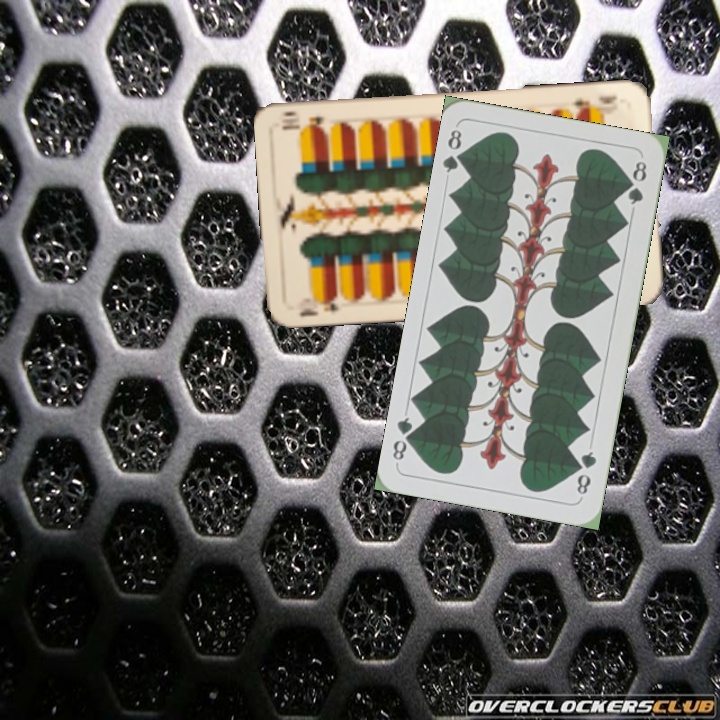E10: (296, 290, 342, 319), (570, 91, 620, 116)
G8: (439, 125, 470, 175), (573, 447, 599, 500)
